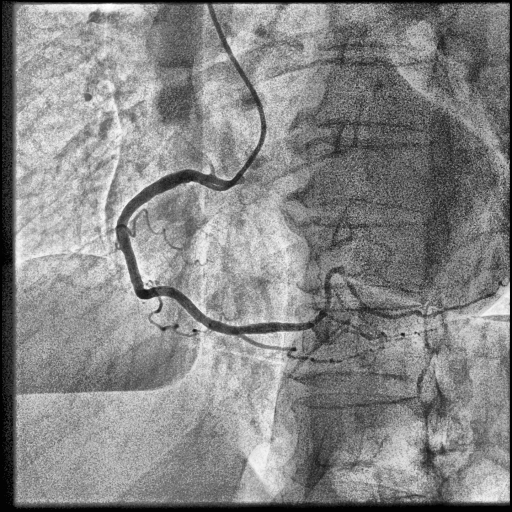pborca: (242, 266, 492, 334)
pda: (240, 334, 340, 364)
rca: (117, 170, 238, 335)
